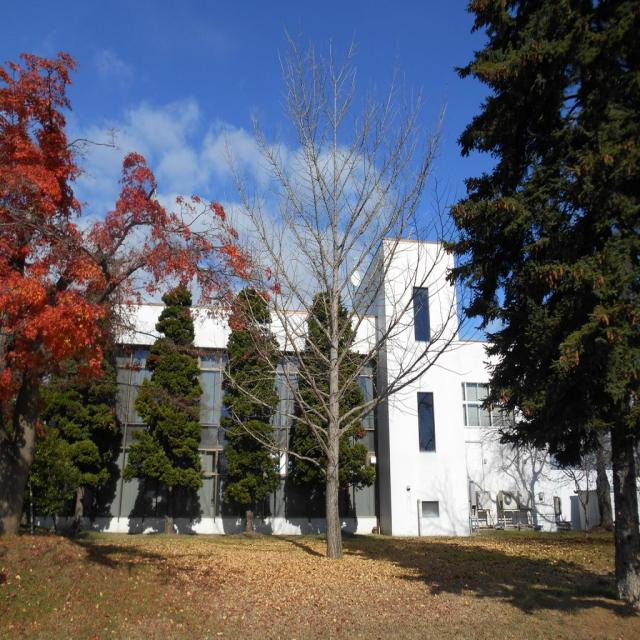ginkgo: (220, 21, 469, 561)
